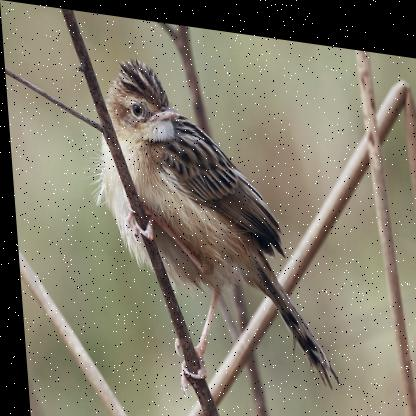Burung: (94, 51, 337, 382)
